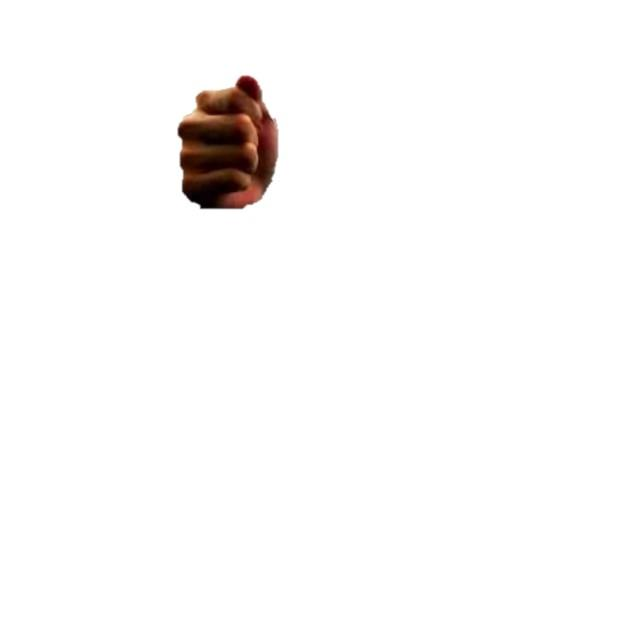gu-: (176, 74, 276, 211)
